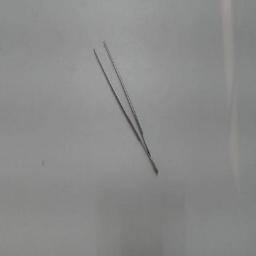Gillies Toothed Dissector: (90, 29, 162, 181)
